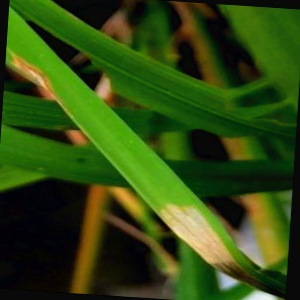Brown_Spot: (10, 46, 62, 96)
